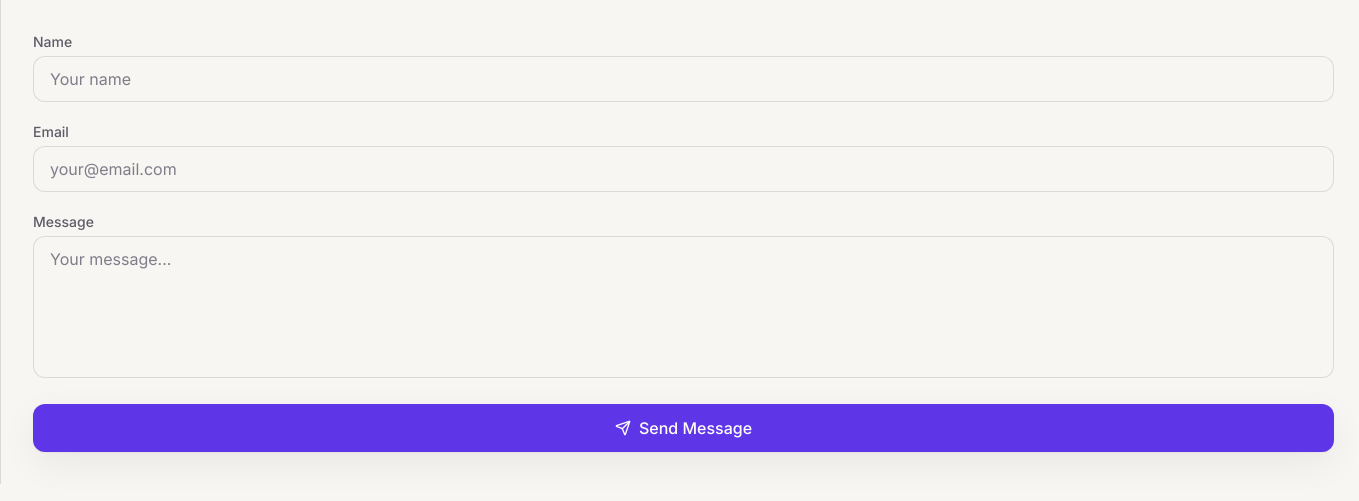
ContactForm › shows business error returned by sendEmail
Type "John Doe" into the field labelled "Name" at {"x": 684, "y": 79}, box [33,56,1334,102]
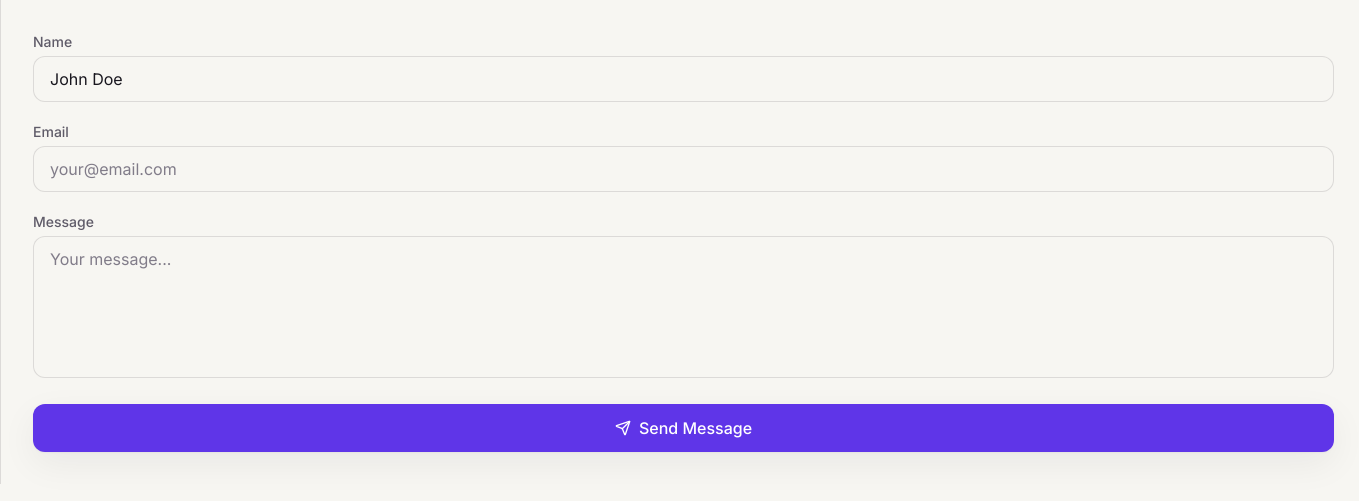
Type "john.doe@example.com" into the field labelled "Email" at {"x": 684, "y": 169}, box [33,146,1334,192]
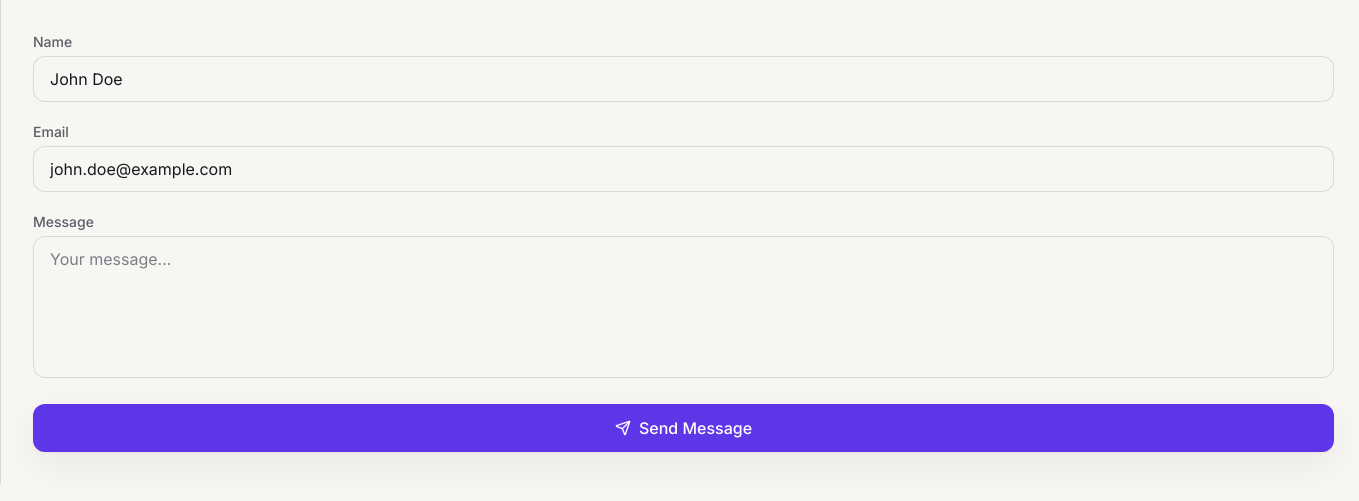
Type "This is a test message." into the text box labelled "Message" at {"x": 684, "y": 307}, box [33,236,1334,378]
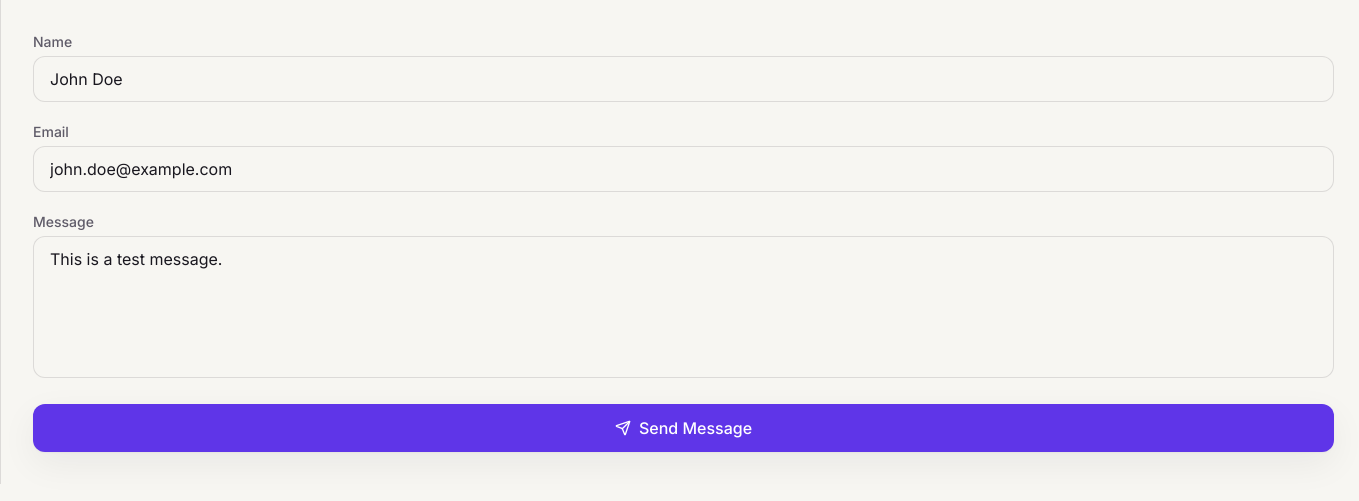
Click the button with test id "submit-button" at {"x": 684, "y": 428}, box [33,404,1334,452]
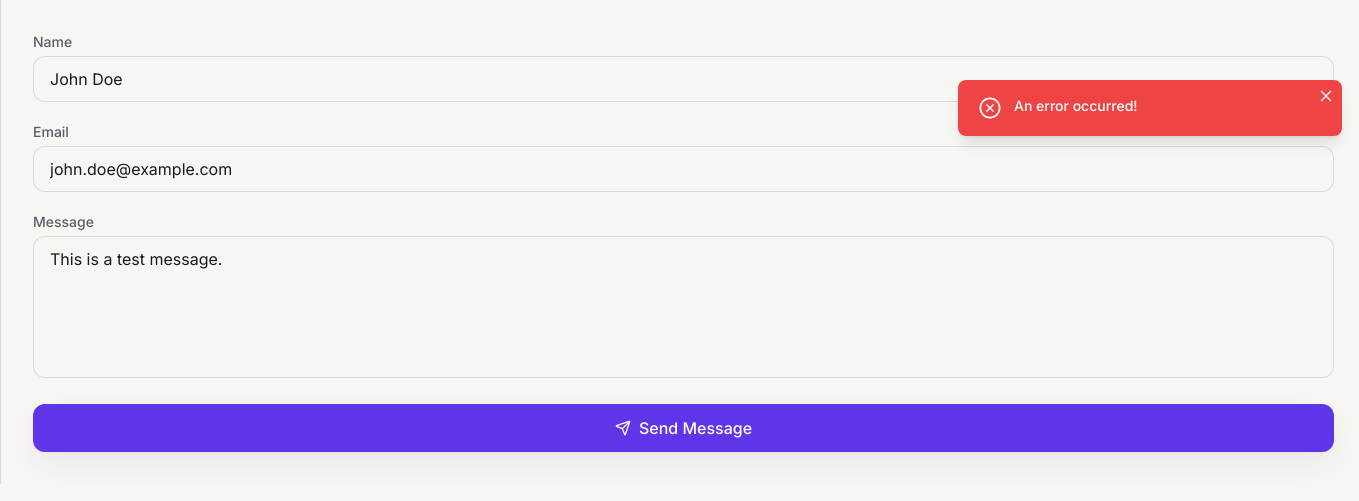
Now the text "An error occurred!" is shown, box [1014,97,1138,114]
